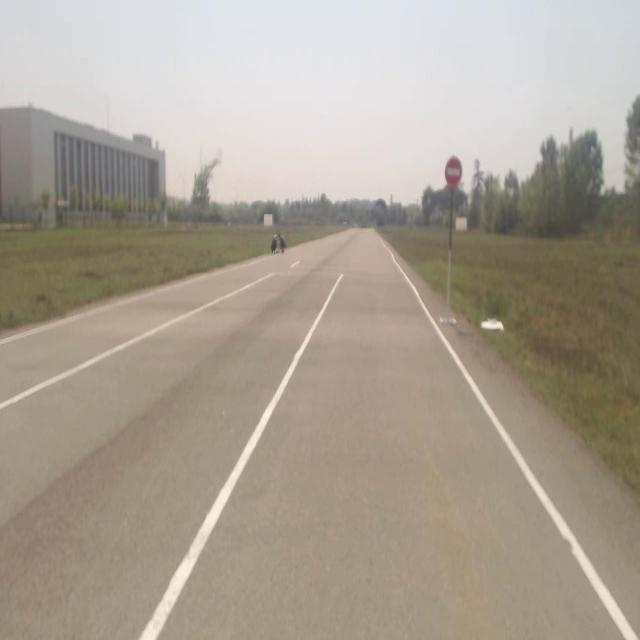girisyok: (445, 157, 463, 186)
